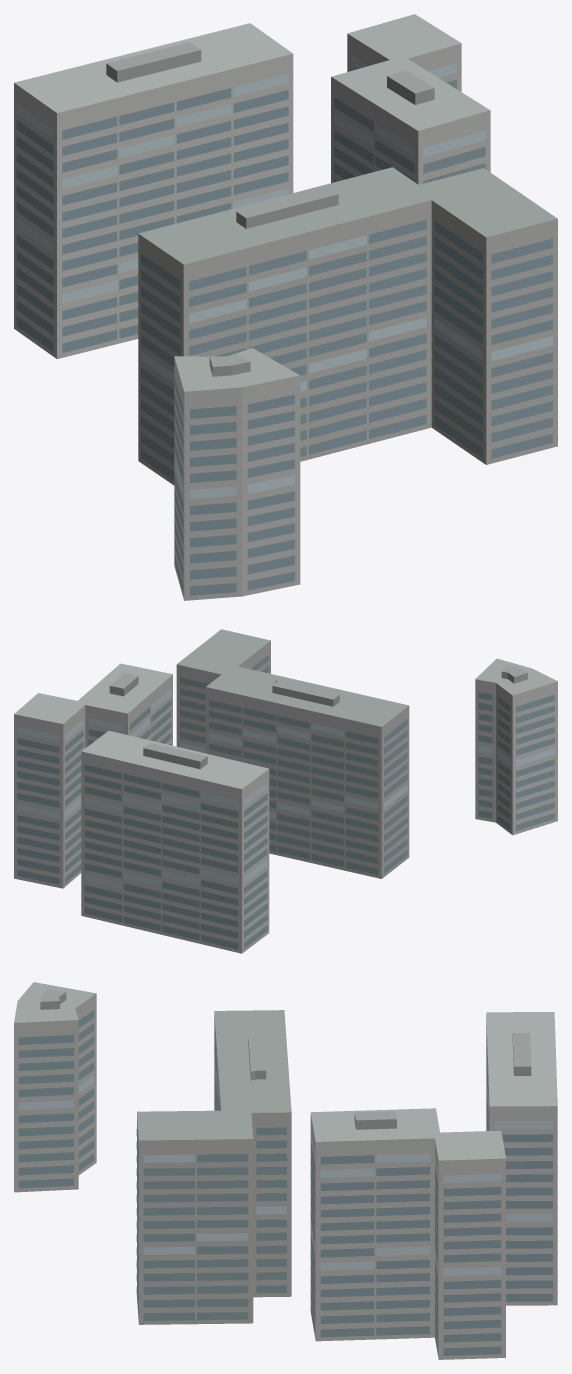
File: apt-a15722102.glb
The picture shows the model from 3 angles, top to bottom: view 1: azimuth 30°, elevation 25°; view 2: azimuth 150°, elevation 25°; view 3: azimuth 270°, elevation 25°; orthographic projection. The views are drawn at different scales.
Visible parts, largest first — view 1: apt-a15722102; view 2: apt-a15722102; view 3: apt-a15722102.
Part boxes in pixels (box(x1,y1,x2,y2)): apt-a15722102: box(14, 14, 557, 600); apt-a15722102: box(14, 629, 557, 953); apt-a15722102: box(14, 982, 557, 1359).
Size of the model in its own units: 85.7 by 40 by 94.49.
